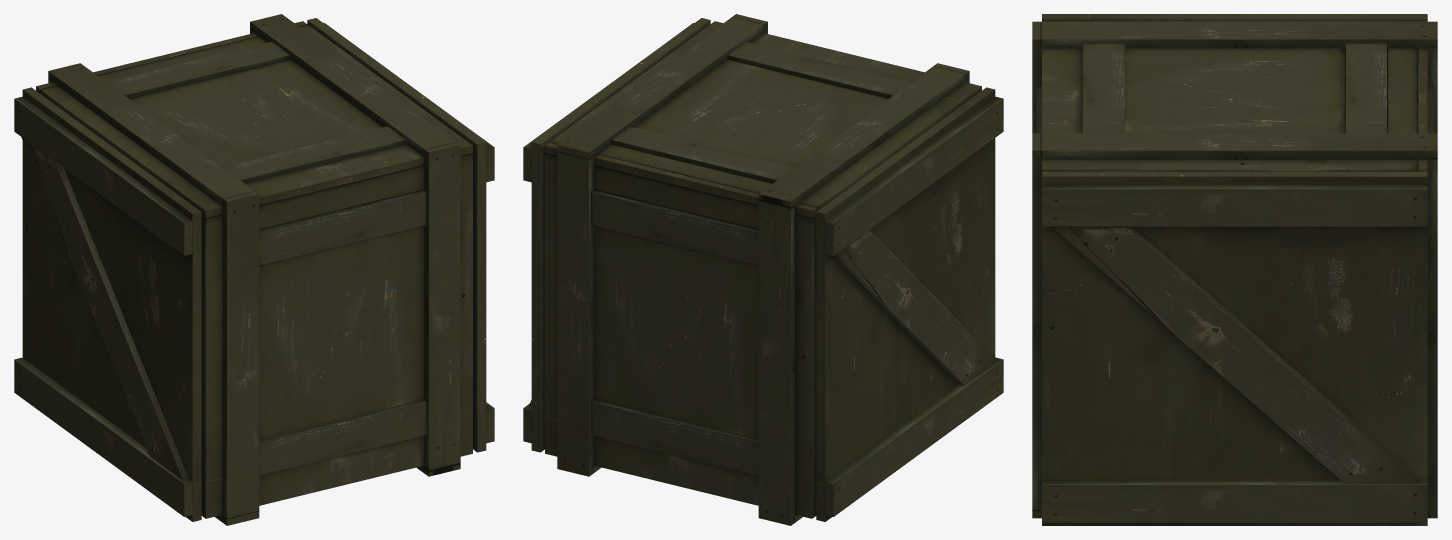
The model's file is standartbox.fbx.
3 renders of one model, left to right at view 1: azimuth 30°, elevation 25°; view 2: azimuth 150°, elevation 25°; view 3: azimuth 270°, elevation 25°, orthographic. The views are drawn at different scales.
Parts seen in each view (by area): view 1: militarybox_standart; view 2: militarybox_standart; view 3: militarybox_standart.
Part boxes in pixels (x1=…): militarybox_standart: x1=14, y1=14, x2=494, y2=525; militarybox_standart: x1=523, y1=14, x2=1003, y2=525; militarybox_standart: x1=1032, y1=14, x2=1437, y2=525.
Bounding box in the file's own units: 6401 × 6387 × 6387.
